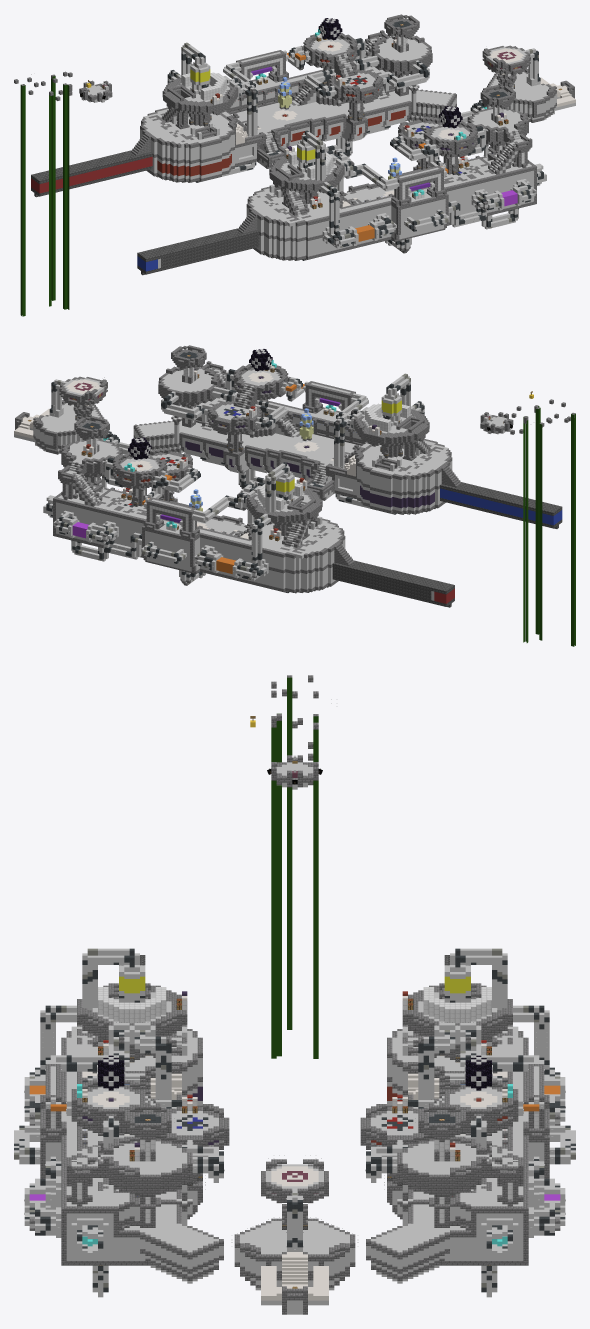
File: minecraft.obj
3 renders of one model, top to bottom at view 1: azimuth 30°, elevation 25°; view 2: azimuth 150°, elevation 25°; view 3: azimuth 270°, elevation 25°, orthographic. The views are drawn at different scales.
Bounding box in the file's own units: 185 × 75 × 107.
